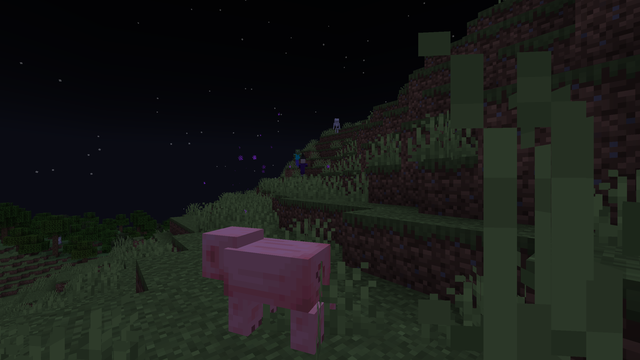cochons: (224, 232, 335, 353)
sorcieres: (299, 158, 306, 171)
squelettes: (333, 118, 340, 131)
zombies: (294, 149, 301, 167)
